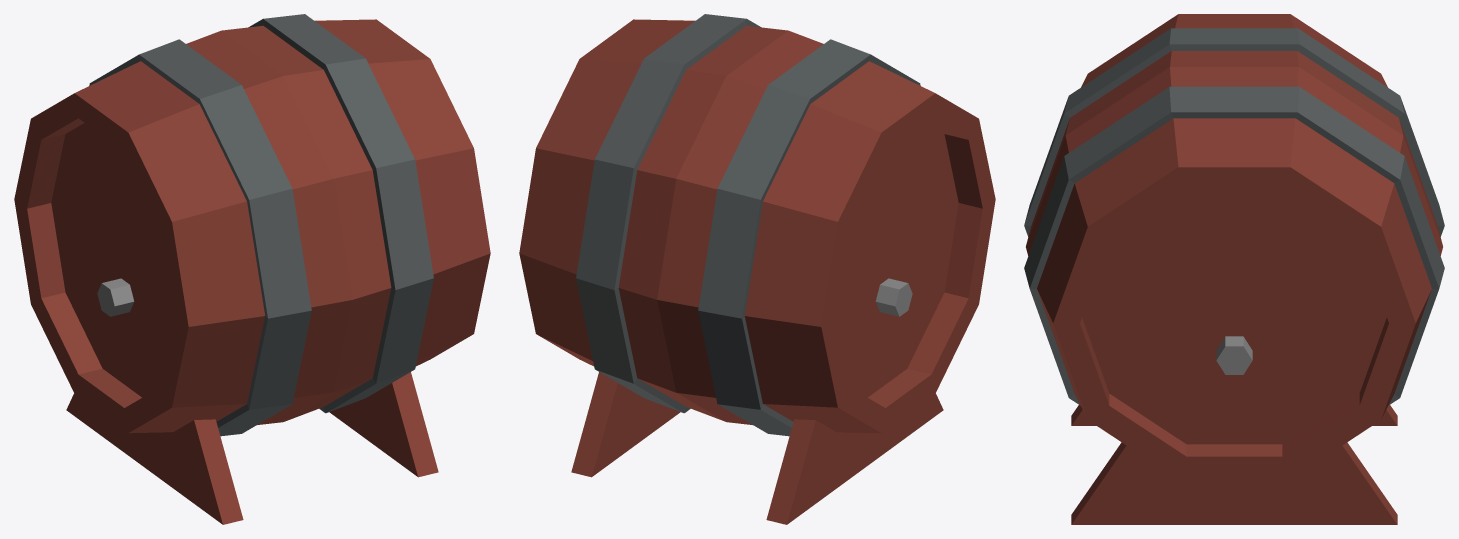
Rendered from Barrel_4_Red.fbx.
The picture shows the model from 3 angles, left to right: view 1: azimuth 30°, elevation 25°; view 2: azimuth 150°, elevation 25°; view 3: azimuth 270°, elevation 25°; orthographic projection. The views are drawn at different scales.
Visible parts, largest first — view 1: Barrel_4_Red_Part_1, Barrel_4_Red_Part_2, Barrel_4_Red_Part_3; view 2: Barrel_4_Red_Part_1, Barrel_4_Red_Part_2, Barrel_4_Red_Part_3; view 3: Barrel_4_Red_Part_1, Barrel_4_Red_Part_2, Barrel_4_Red_Part_3.
Part boxes in pixels (box(x1,y1,x2,y2)): Barrel_4_Red_Part_1: box(14, 19, 490, 524); Barrel_4_Red_Part_2: box(89, 14, 433, 436); Barrel_4_Red_Part_3: box(97, 278, 134, 316); Barrel_4_Red_Part_1: box(519, 19, 995, 524); Barrel_4_Red_Part_2: box(576, 14, 920, 436); Barrel_4_Red_Part_3: box(875, 278, 912, 316); Barrel_4_Red_Part_1: box(1026, 14, 1442, 524); Barrel_4_Red_Part_2: box(1024, 28, 1444, 405); Barrel_4_Red_Part_3: box(1216, 336, 1252, 374).
Bounding box in the file's own units: 100 × 123 × 116.
